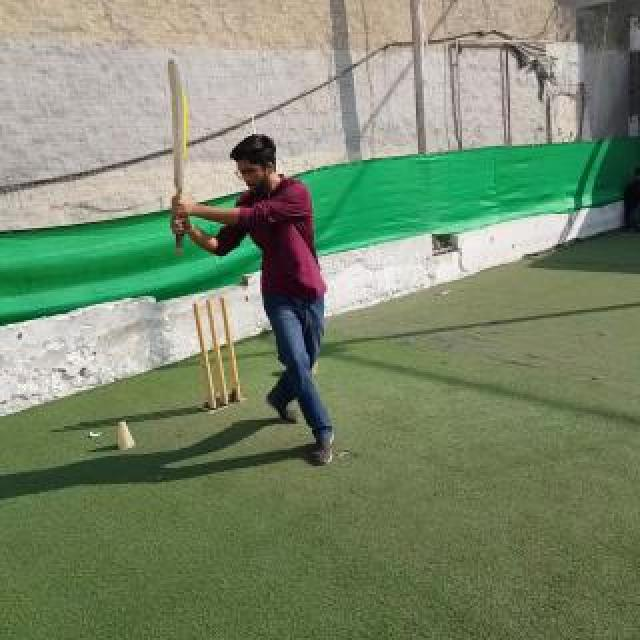bat: (166, 58, 190, 254)
